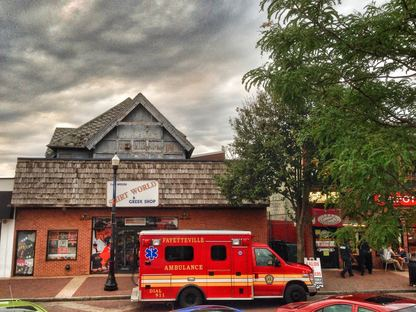ambulance: (129, 230, 320, 306)
car: (276, 292, 416, 312), (0, 282, 49, 312), (168, 304, 244, 312)
